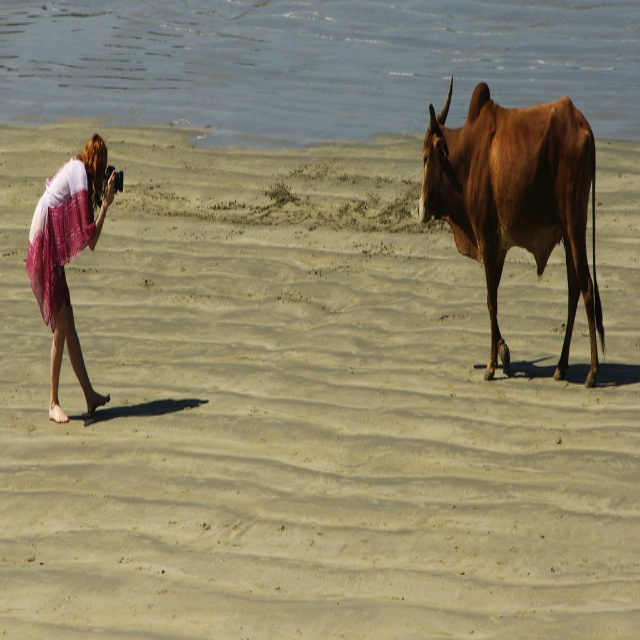Cattle: (418, 73, 608, 392)
